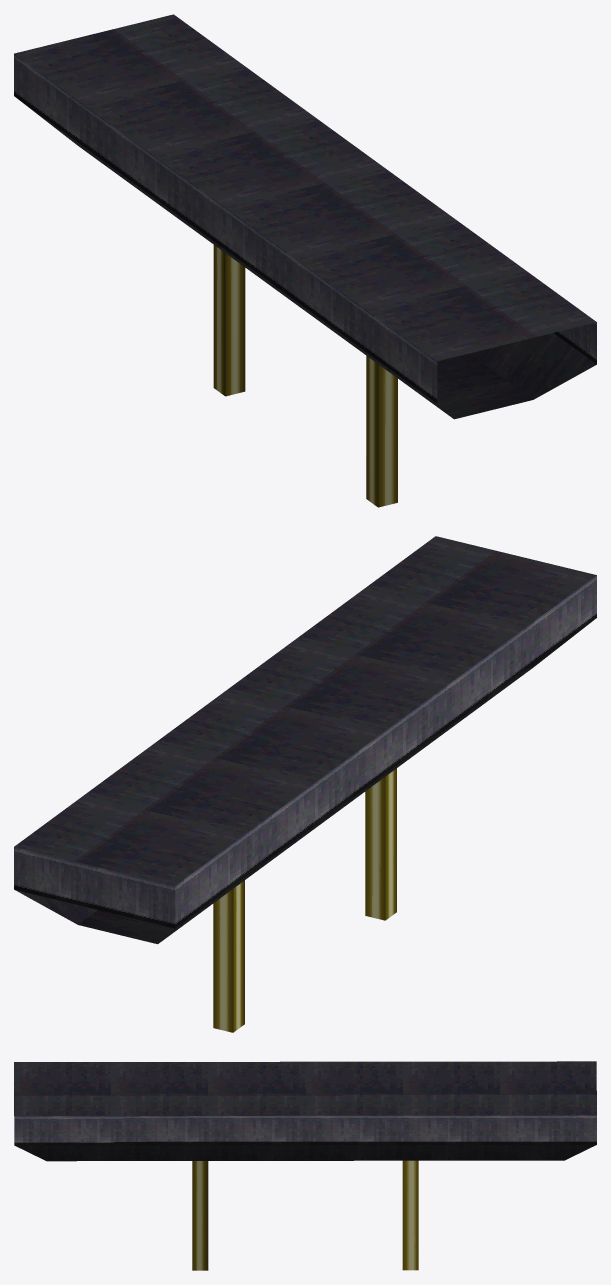
The model's file is primary_092.glb.
The picture shows the model from 3 angles, top to bottom: view 1: azimuth 30°, elevation 25°; view 2: azimuth 150°, elevation 25°; view 3: azimuth 270°, elevation 25°; orthographic projection. The views are drawn at different scales.
Parts seen in each view (by area): view 1: Object; view 2: Object; view 3: Object.
Boxes of the visible parts, x1=… form: Object: x1=14, y1=14, x2=596, y2=507; Object: x1=14, y1=536, x2=596, y2=1032; Object: x1=14, y1=1061, x2=596, y2=1270.
Bounding box in the file's own units: 1.12 × 1.7 × 5.04.
12 materials, 12 textured.
